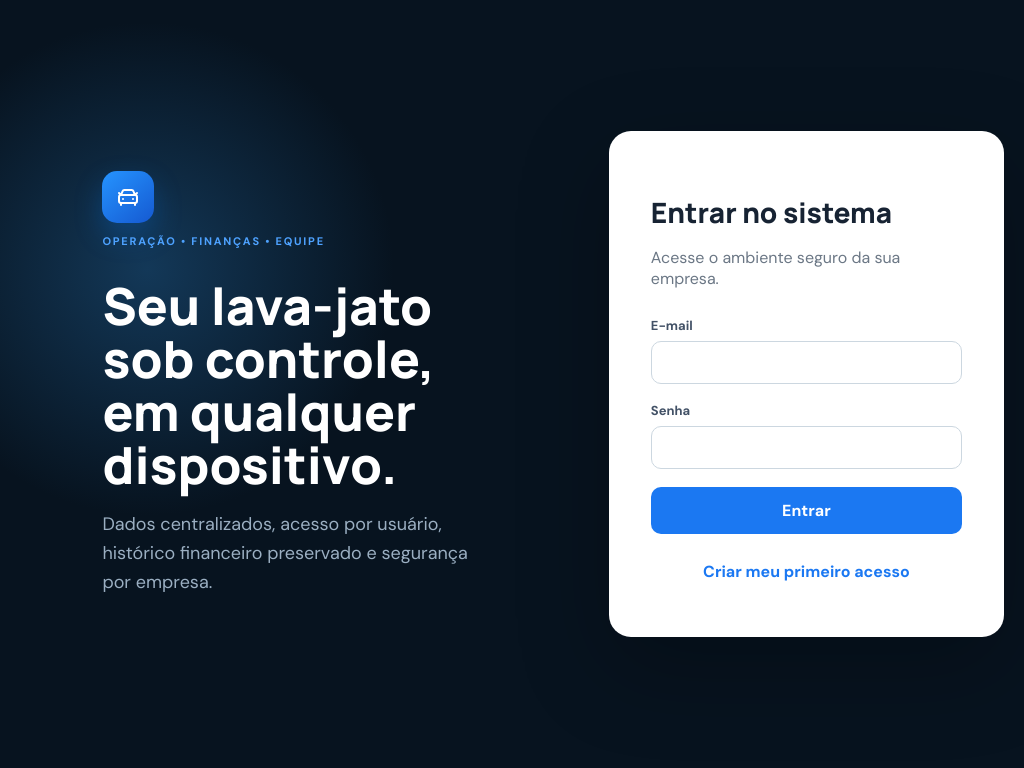
Test: autenticação › alterna entre login e cadastro pelo botão
Expected: the heading "Entrar no sistema" is shown, [651,193,892,231]
Click the button "Criar meu primeiro acesso" at [806, 572], box [651,548,962,595]
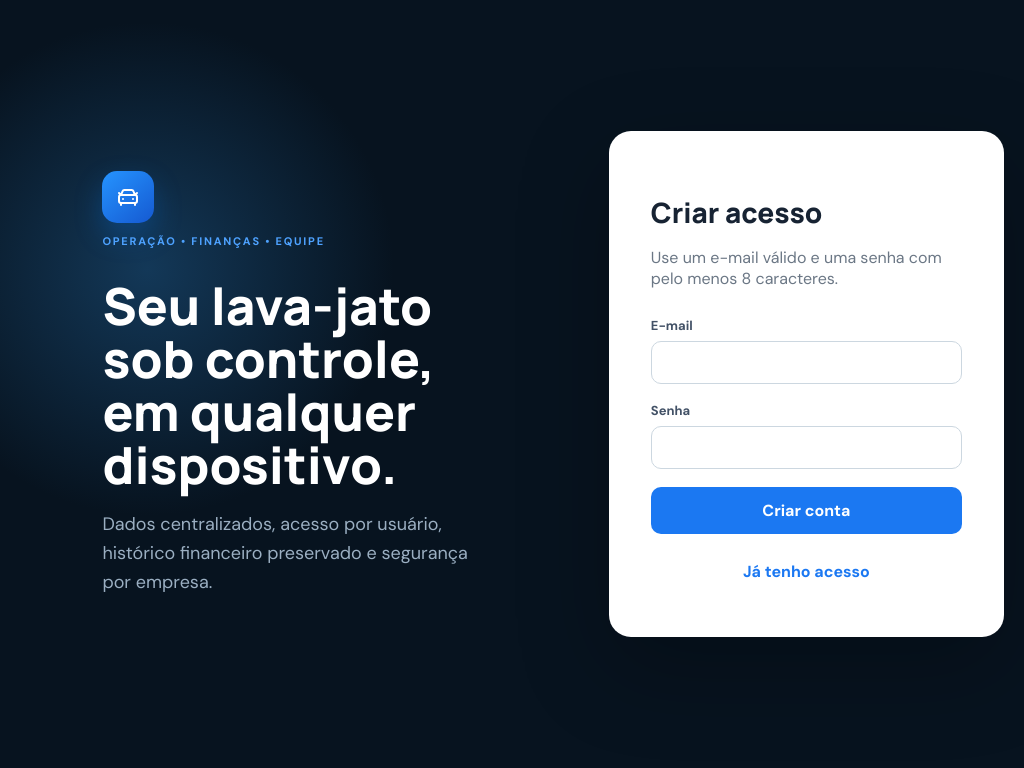
Result: the heading "Criar acesso" is shown at [651,193,822,231]
